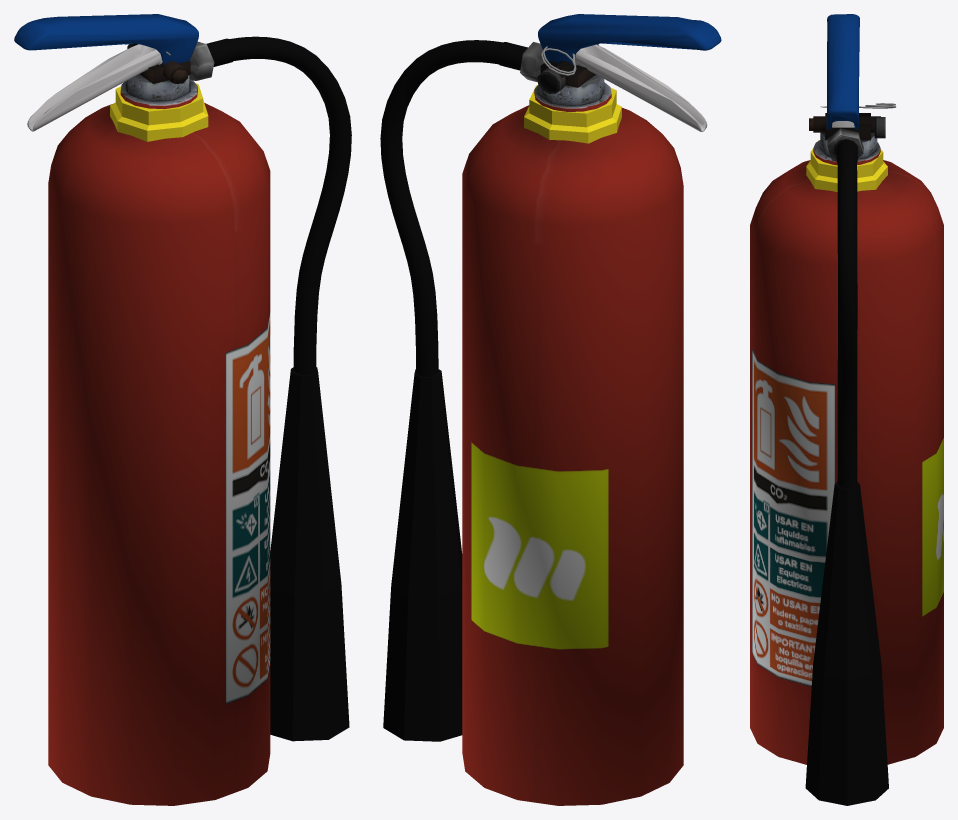
The model's file is Modelado Extintor Dioxido de carbono.fbx.
The picture shows the model from 3 angles, left to right: view 1: azimuth 30°, elevation 25°; view 2: azimuth 150°, elevation 25°; view 3: azimuth 270°, elevation 25°; orthographic projection. The views are drawn at different scales.
Parts seen in each view (by area): view 1: fire_extinguisher_c02, 10285_Fire Extinguisher_v3_iterations-2.004, 10285_Fire Extinguisher_v3_iterations-2.001, 10285_Fire Extinguisher_v3_iterations-2.003, Cube, fire_extinguisher_c02.001; view 2: fire_extinguisher_c02, 10285_Fire Extinguisher_v3_iterations-2.004, 10285_Fire Extinguisher_v3_iterations-2.001, 10285_Fire Extinguisher_v3_iterations-2.003, Cube, fire_extinguisher_c02.001; view 3: fire_extinguisher_c02, 10285_Fire Extinguisher_v3_iterations-2.004, 10285_Fire Extinguisher_v3_iterations-2.001, Cube, fire_extinguisher_c02.001.
Part boxes in pixels (x1,y1,x2,y2): fire_extinguisher_c02: (48,43,270,805); 10285_Fire Extinguisher_v3_iterations-2.004: (206,36,351,741); 10285_Fire Extinguisher_v3_iterations-2.001: (14,14,198,65); 10285_Fire Extinguisher_v3_iterations-2.003: (27,44,162,131); Cube: (110,83,208,141); fire_extinguisher_c02.001: (127,41,214,100); fire_extinguisher_c02: (462,44,683,805); 10285_Fire Extinguisher_v3_iterations-2.004: (380,40,527,741); 10285_Fire Extinguisher_v3_iterations-2.001: (538,14,721,64); 10285_Fire Extinguisher_v3_iterations-2.003: (575,44,707,131); Cube: (524,85,621,143); fire_extinguisher_c02.001: (520,42,604,105); fire_extinguisher_c02: (750,116,943,764); 10285_Fire Extinguisher_v3_iterations-2.004: (805,140,888,805); 10285_Fire Extinguisher_v3_iterations-2.001: (826,14,859,130); Cube: (806,140,887,192); fire_extinguisher_c02.001: (820,113,877,161).
Size of the model in its own units: 26.09 by 57.24 by 15.2.
